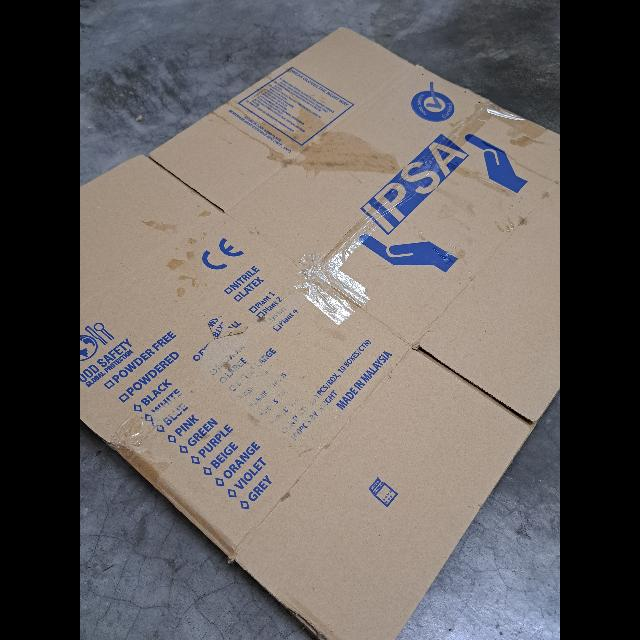papelão: (80, 26, 560, 640)
